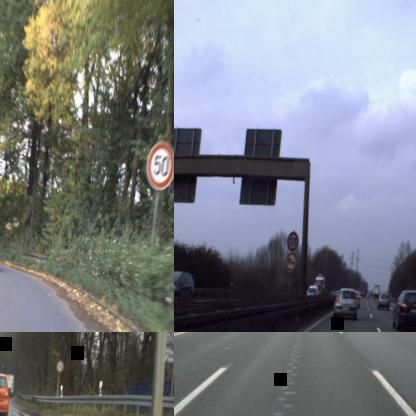no overtaking -trucks-: (284, 251, 298, 273)
speed limit 120: (286, 230, 300, 252)
speed limit 50: (144, 141, 174, 191), (56, 360, 64, 374)
